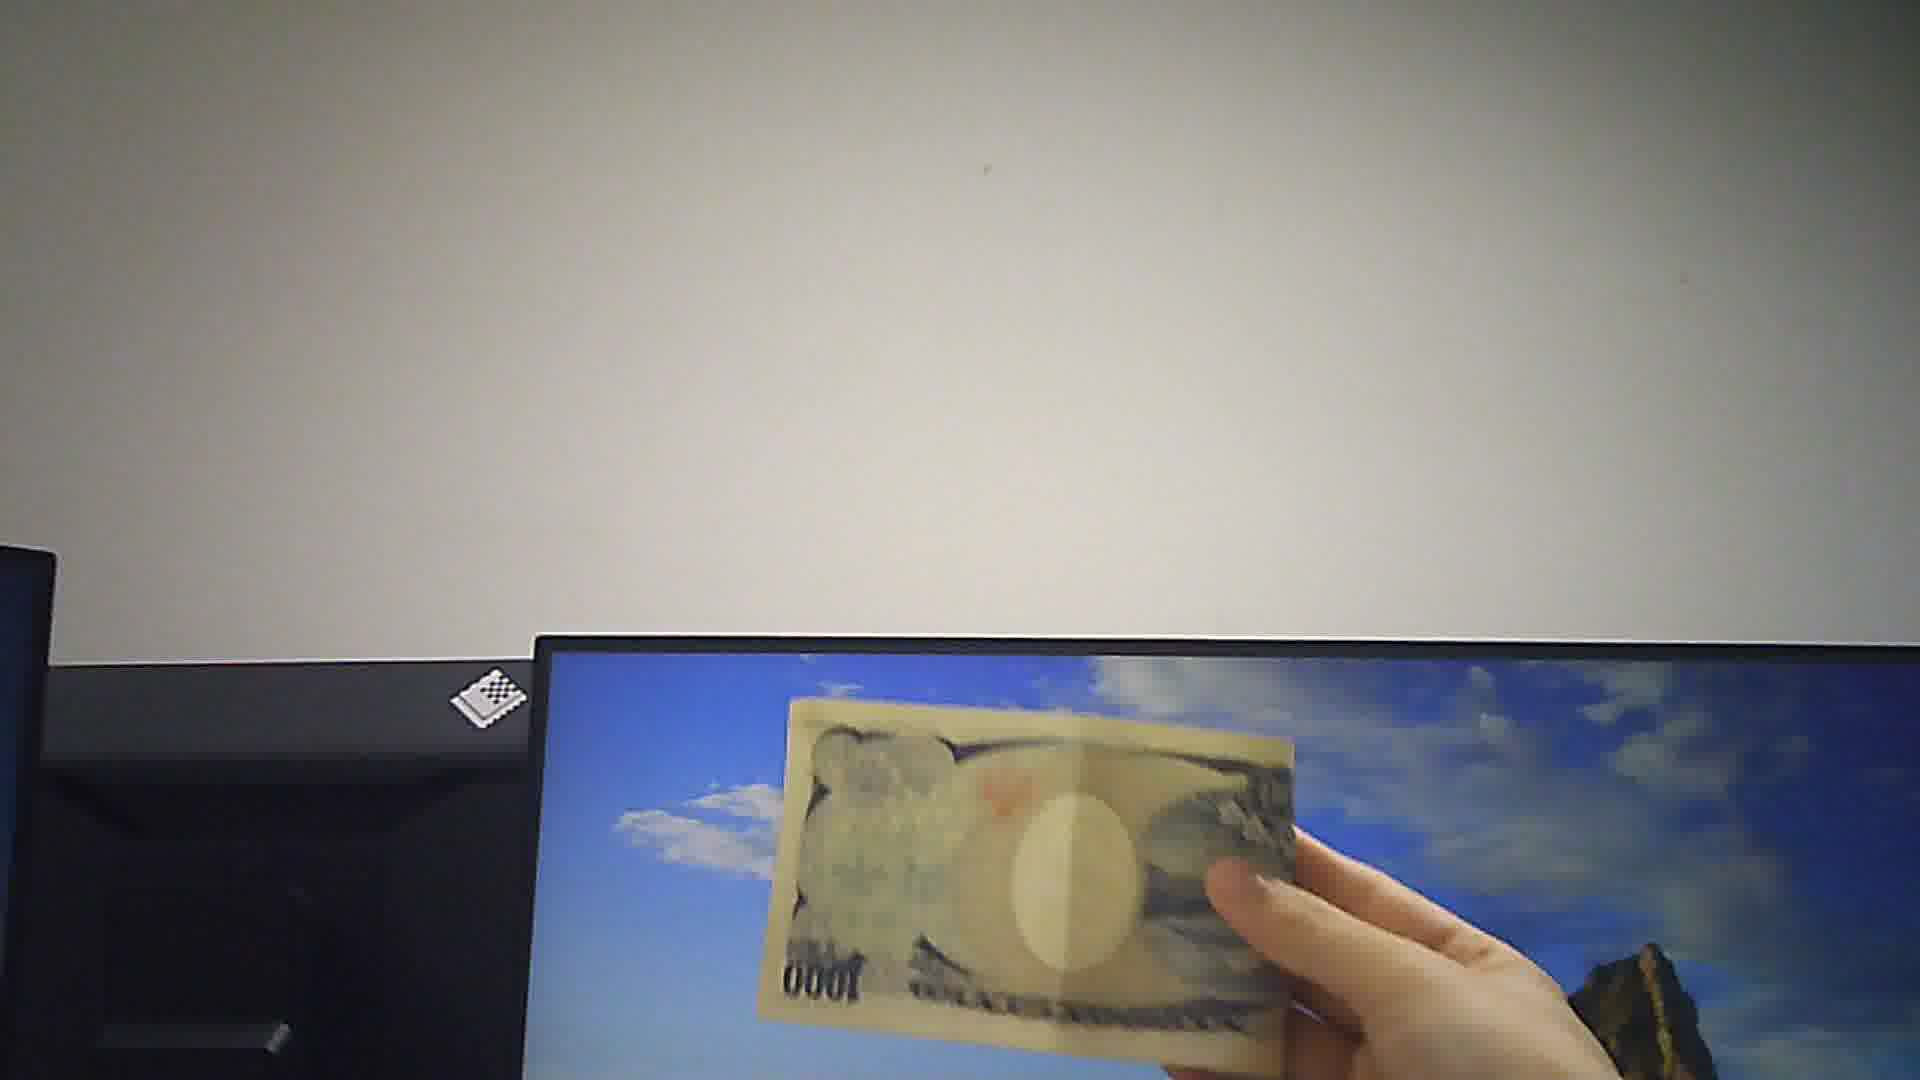1,000 Yen: (765, 676, 1315, 1079)
